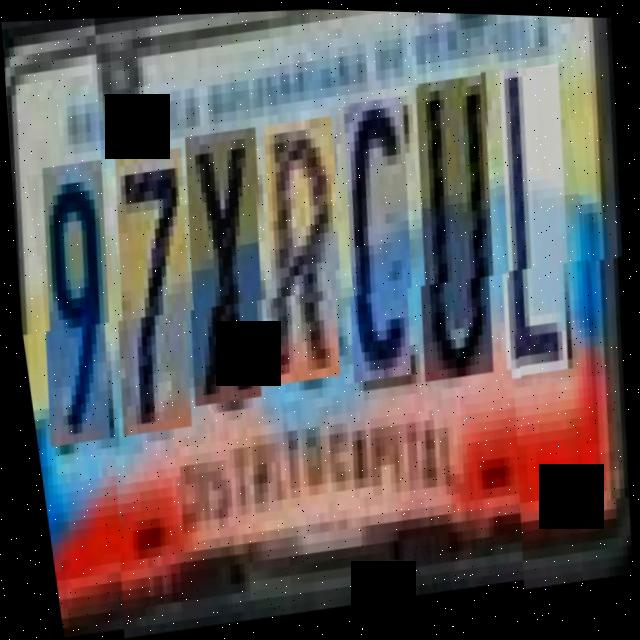7: (95, 148, 218, 440)
9: (23, 169, 137, 458)
C: (327, 99, 441, 389)
L: (479, 61, 599, 378)
R: (246, 119, 367, 390)
U: (398, 79, 525, 389)
X: (169, 129, 290, 410)
